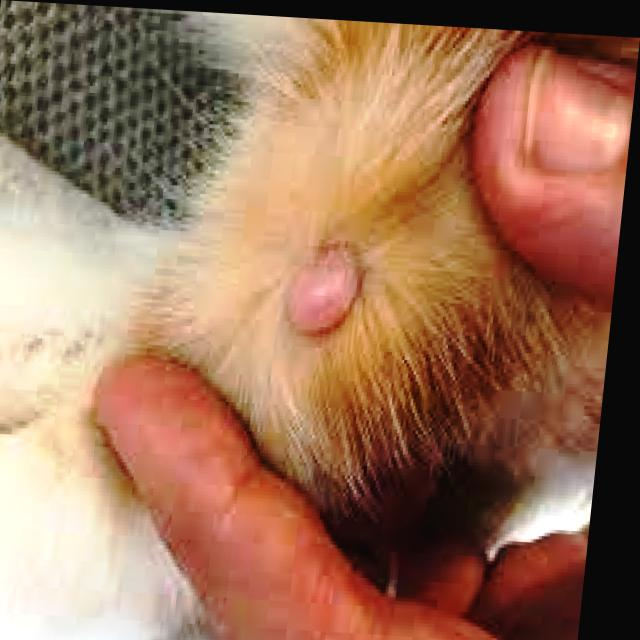lump_and_bump: (289, 243, 361, 333)
